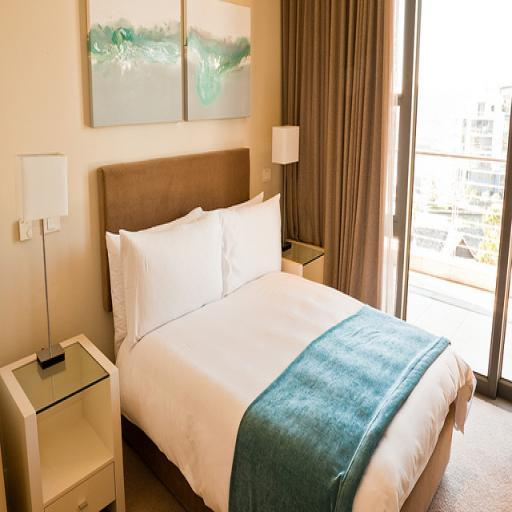bed: (98, 165, 488, 512)
